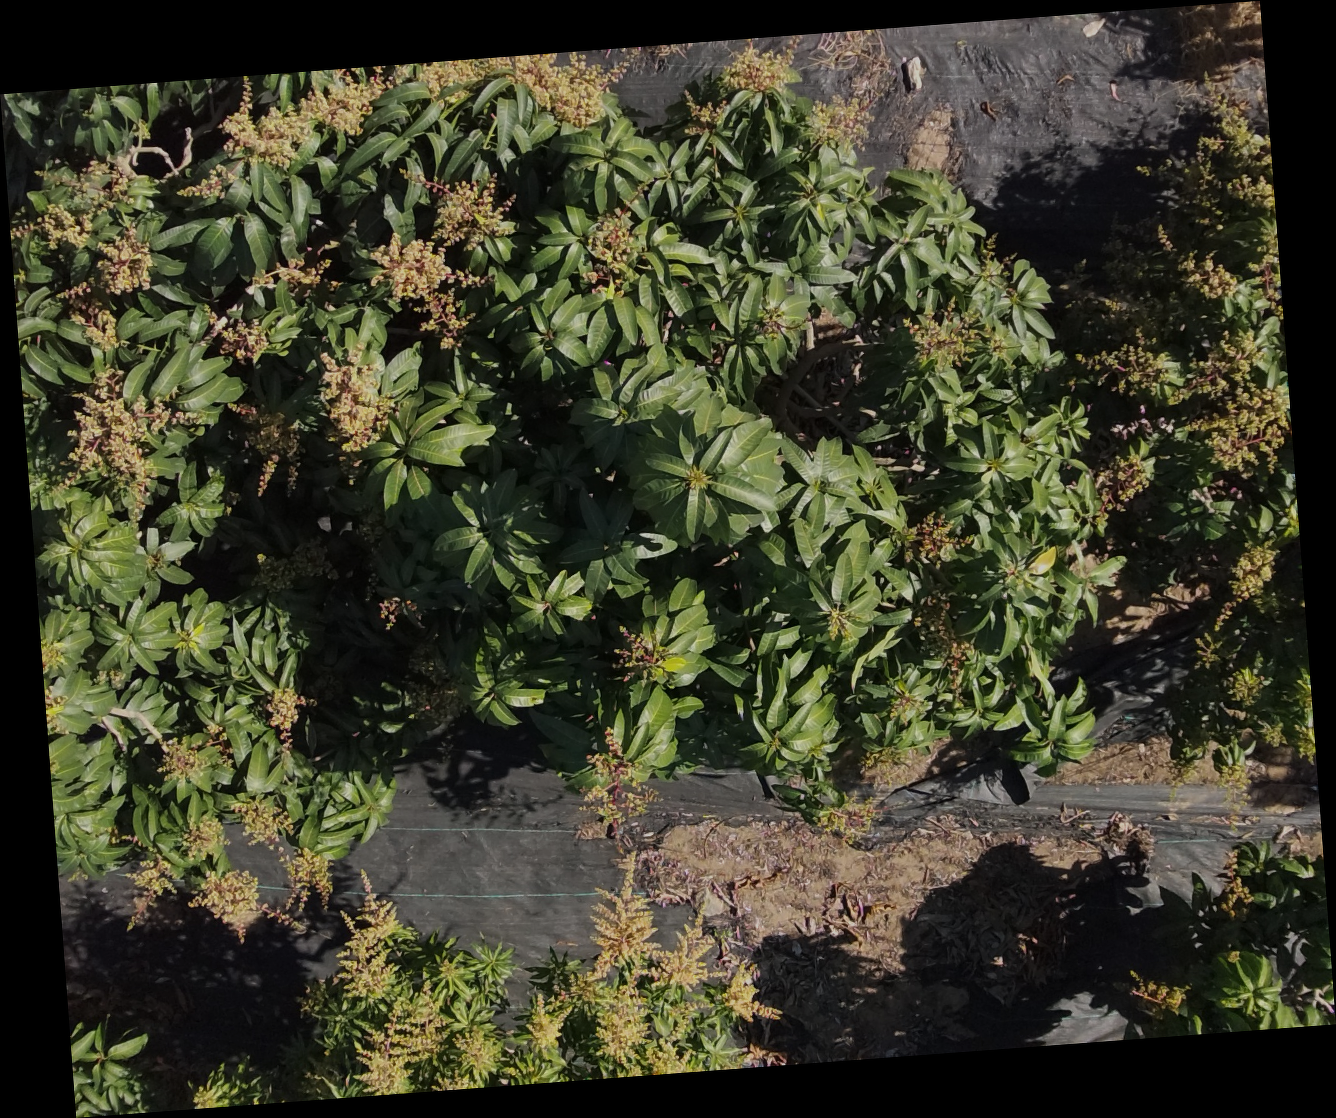flowers: (372, 172, 517, 349), (174, 75, 391, 194), (47, 366, 202, 520), (340, 885, 439, 1094), (1187, 111, 1276, 322), (585, 860, 713, 992), (1175, 328, 1289, 472), (421, 57, 610, 133), (9, 162, 152, 248), (61, 227, 154, 350), (236, 793, 330, 912), (322, 344, 395, 479), (598, 980, 699, 1075), (577, 728, 655, 838), (190, 868, 300, 941), (523, 956, 597, 1054), (917, 591, 974, 707), (232, 402, 300, 495), (1158, 220, 1236, 299), (1077, 343, 1182, 402), (908, 308, 1010, 368), (1211, 545, 1279, 628), (583, 209, 642, 299), (245, 243, 341, 294), (895, 511, 974, 565), (441, 1023, 503, 1089), (719, 42, 799, 93), (616, 627, 685, 682), (125, 852, 176, 926), (1095, 453, 1155, 510), (807, 96, 871, 149), (723, 964, 779, 1022), (204, 315, 269, 364), (1283, 665, 1313, 760), (1214, 741, 1249, 816), (817, 797, 877, 842), (267, 687, 307, 748), (160, 736, 210, 781), (182, 814, 226, 858), (684, 98, 726, 135), (1170, 735, 1205, 780), (192, 1071, 233, 1108), (1229, 668, 1263, 704), (827, 604, 856, 639)
